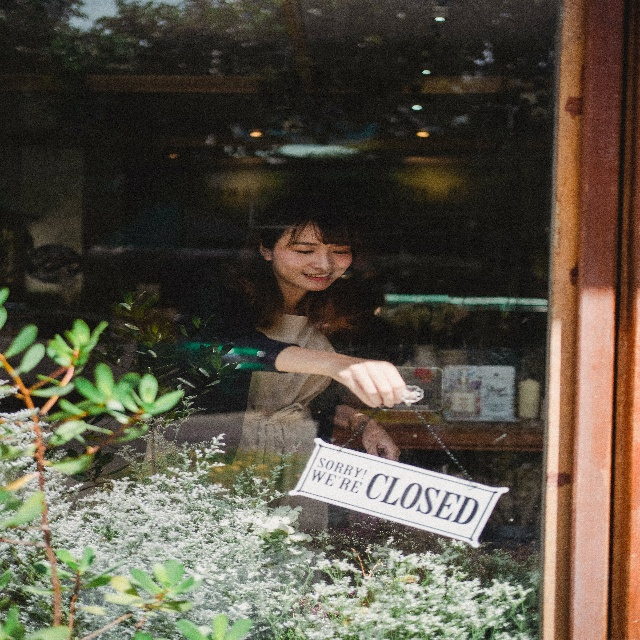Sin_guantes: (325, 351, 405, 409), (363, 416, 400, 459)
